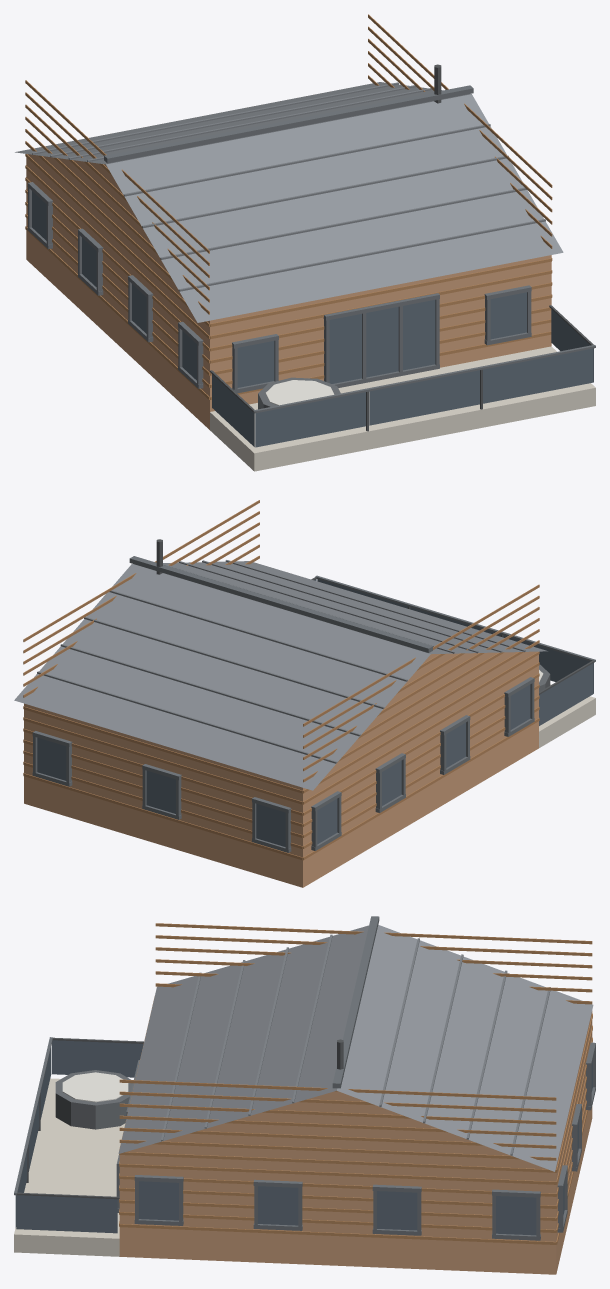
The picture shows the model from 3 angles, top to bottom: view 1: azimuth 30°, elevation 25°; view 2: azimuth 150°, elevation 25°; view 3: azimuth 270°, elevation 25°; orthographic projection. The views are drawn at different scales.
Parts seen in each view (by area): view 1: slate_lt, timber_stain, timber_stain_dk, slate_dk, deck_grey, slate, window_glass_001, window_glass_003, window_glass_002, window_glass_007, window_glass_008, window_glass_006 (+6 smaller); view 2: slate_lt, timber_stain, timber_stain_dk, slate_dk, slate, window_glass_004, deck_grey, window_glass_001, window_glass_015, window_glass_017, window_glass_016, window_glass_018 (+3 smaller); view 3: slate_lt, timber_stain, timber_stain_dk, deck_grey, slate_dk, slate, window_glass_005, window_glass_004, band_dark, window_glass_012, window_glass_013, window_glass_014 (+3 smaller).
Part boxes in pixels (x1=…): slate_lt: x1=15, y1=82, x2=563, y2=322; timber_stain: x1=26, y1=154, x2=551, y2=429; timber_stain_dk: x1=25, y1=14, x2=552, y2=399; slate_dk: x1=27, y1=85, x2=595, y2=413; deck_grey: x1=210, y1=346, x2=595, y2=471; slate: x1=32, y1=82, x2=545, y2=291; window_glass_001: x1=255, y1=392, x2=365, y2=447; window_glass_003: x1=483, y1=348, x2=593, y2=403; window_glass_002: x1=369, y1=370, x2=479, y2=425; window_glass_007: x1=366, y1=307, x2=398, y2=377; window_glass_008: x1=403, y1=300, x2=435, y2=370; window_glass_006: x1=329, y1=314, x2=361, y2=383; slate_lt: x1=14, y1=561, x2=547, y2=790; timber_stain: x1=24, y1=651, x2=538, y2=887; timber_stain_dk: x1=23, y1=500, x2=539, y2=860; slate_dk: x1=32, y1=556, x2=595, y2=852; slate: x1=37, y1=560, x2=525, y2=763; window_glass_004: x1=539, y1=663, x2=593, y2=725; deck_grey: x1=539, y1=684, x2=595, y2=747; window_glass_001: x1=503, y1=635, x2=593, y2=693; window_glass_015: x1=37, y1=737, x2=66, y2=780; window_glass_017: x1=256, y1=804, x2=285, y2=846; window_glass_016: x1=146, y1=770, x2=175, y2=813; window_glass_018: x1=317, y1=799, x2=337, y2=844; slate_lt: x1=118, y1=925, x2=593, y2=1171; timber_stain: x1=119, y1=1011, x2=592, y2=1274; timber_stain_dk: x1=119, y1=923, x2=592, y2=1244; deck_grey: x1=14, y1=1078, x2=125, y2=1256; slate_dk: x1=14, y1=916, x2=595, y2=1240; slate: x1=161, y1=934, x2=550, y2=1155; window_glass_005: x1=16, y1=1195, x2=117, y2=1233; window_glass_004: x1=52, y1=1040, x2=143, y2=1077; band_dark: x1=55, y1=1070, x2=132, y2=1129; window_glass_012: x1=258, y1=1186, x2=298, y2=1225; window_glass_013: x1=377, y1=1191, x2=417, y2=1230; window_glass_014: x1=496, y1=1196, x2=536, y2=1235.
Bounding box in the file's own units: 9.9 × 5.35 × 13.15.
